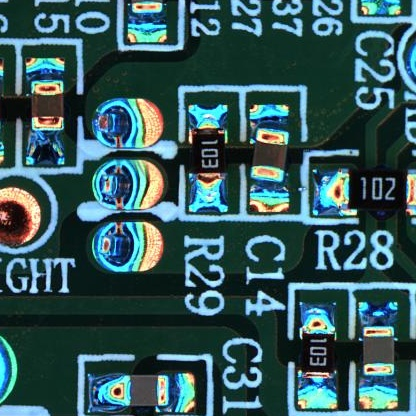spot: (87, 221, 164, 273), (91, 158, 164, 210), (91, 97, 165, 148), (1, 187, 42, 247)
